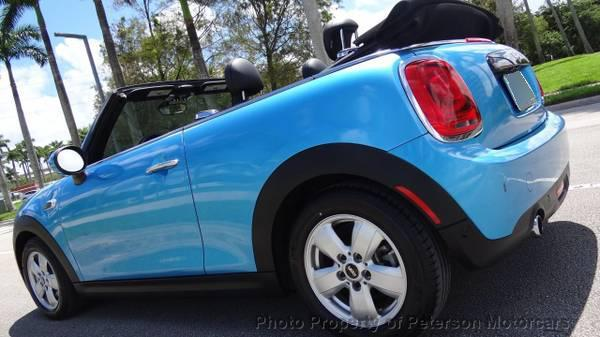Front_Fender: (11, 179, 90, 291)
Front_Left_Door: (60, 128, 207, 288)
Left_Taillight: (402, 54, 485, 141)
Rear_Bumper: (361, 107, 571, 261)
Rear_Fender: (181, 46, 429, 279)
Tailgate: (413, 37, 547, 148)
Wheel: (285, 186, 446, 337), (18, 238, 70, 318)
